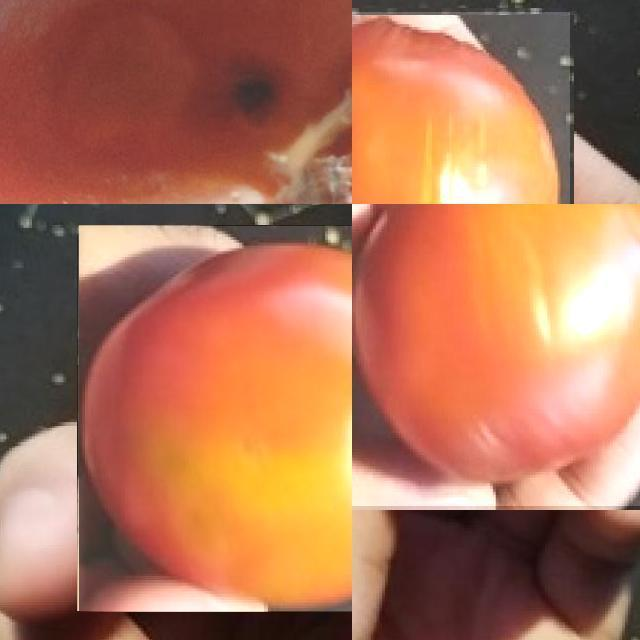tomato: (78, 226, 353, 612)
